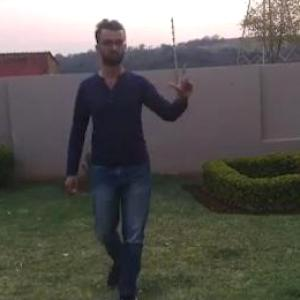land_hand: (166, 57, 197, 105)
